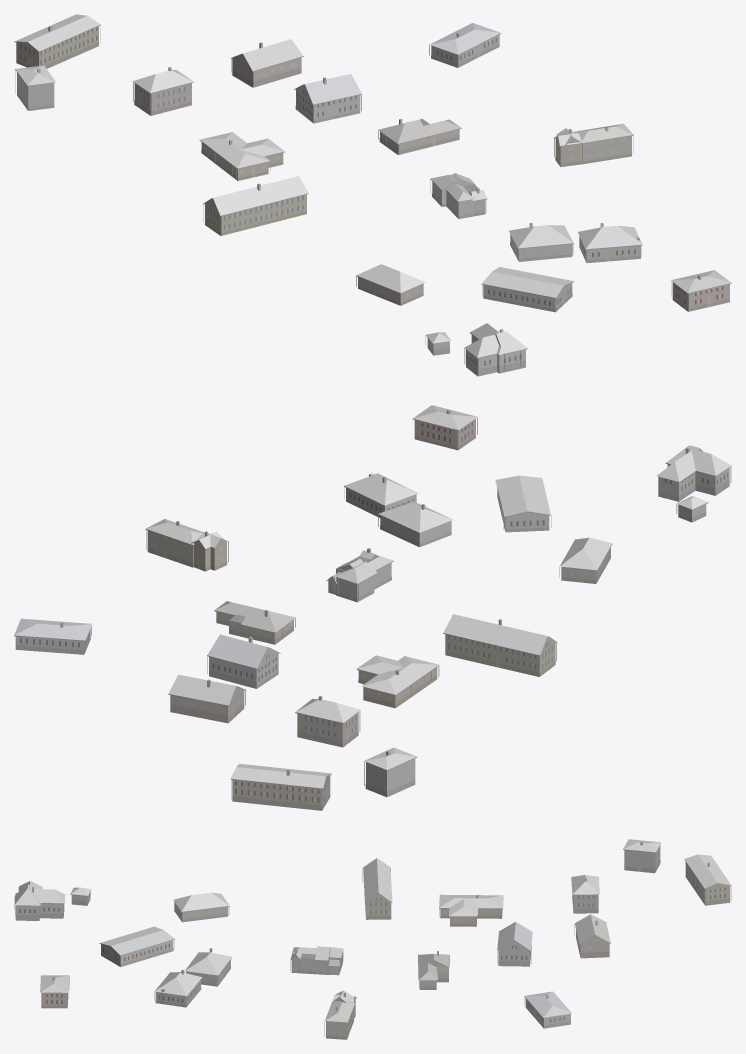
3 views of the same model, one above another, from view 1: azimuth 30°, elevation 25°; view 2: azimuth 150°, elevation 25°; view 3: azimuth 270°, elevation 25° (orthographic). The views are drawn at different scales.
Visible parts, largest first — view 1: bld; view 2: bld; view 3: bld.
Boxes of the visible parts, <box> form: bld: <box>14,14,731,376</box>; bld: <box>14,405,731,810</box>; bld: <box>14,839,731,1039</box>.
Size of the model in its own units: 128 by 14.41 by 228.
